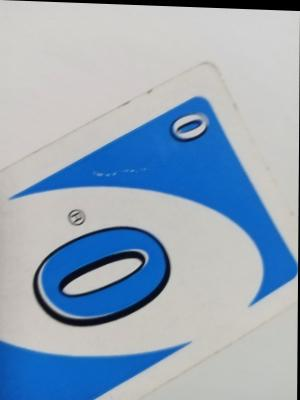blue: (15, 172, 257, 345)
num_0: (166, 93, 211, 148)
